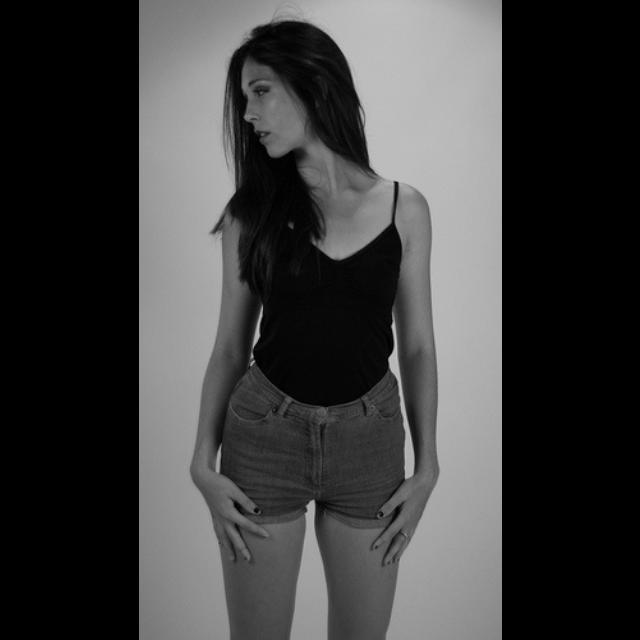bottom: (235, 373, 402, 527)
top: (245, 178, 410, 398)
